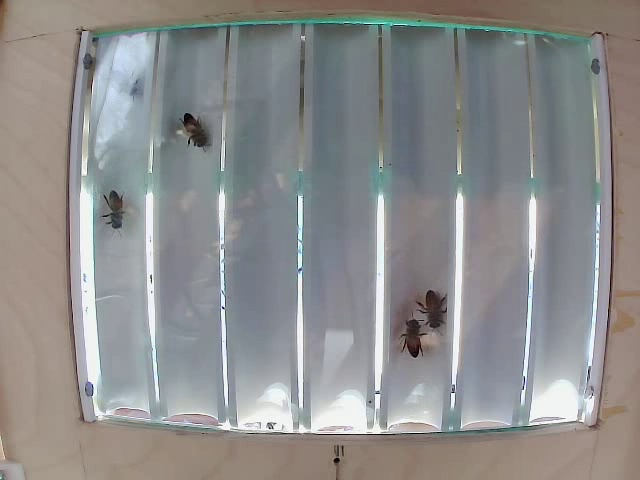bee: (424, 283, 454, 337), (399, 315, 426, 357), (181, 101, 210, 138), (99, 195, 130, 226)
